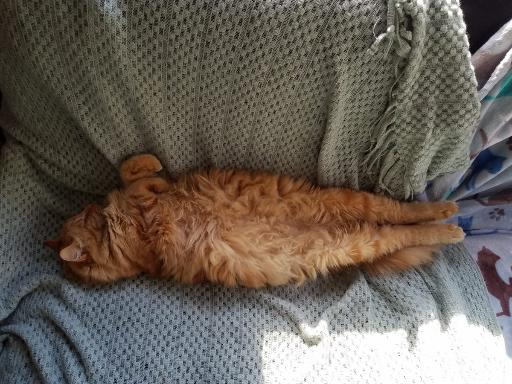cat_sleeping: (44, 154, 464, 288)
